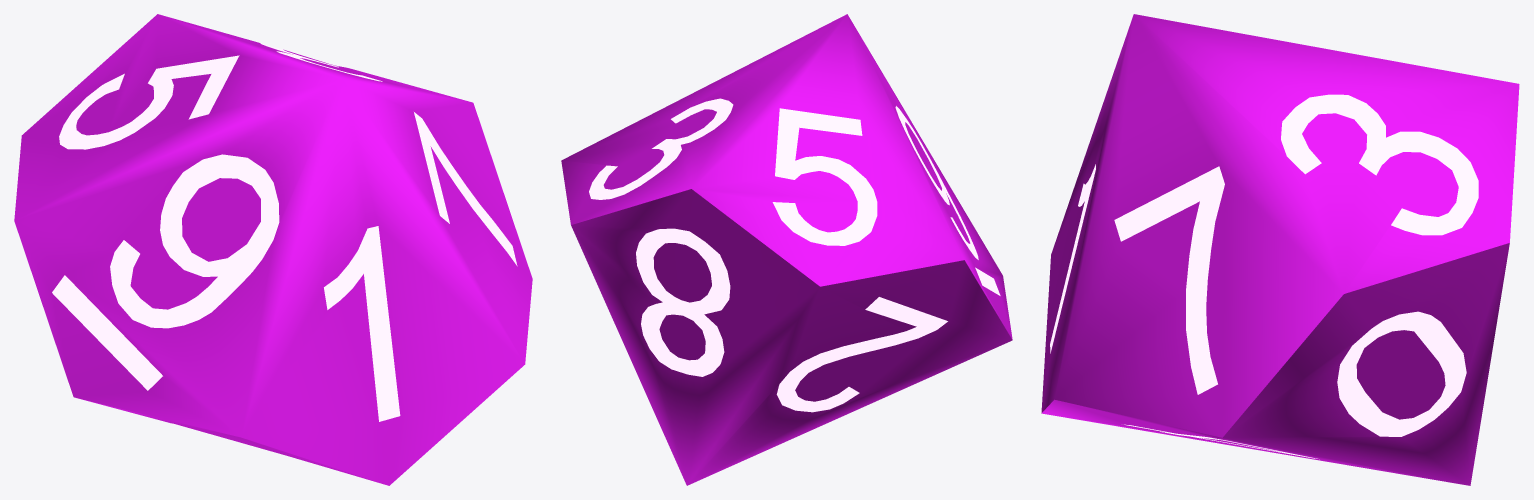
Rendered from dice10.glb.
The picture shows the model from 3 angles, left to right: view 1: azimuth 30°, elevation 25°; view 2: azimuth 150°, elevation 25°; view 3: azimuth 270°, elevation 25°; orthographic projection. The views are drawn at different scales.
Visible parts, largest first — view 1: d10; view 2: d10; view 3: d10.
Part boxes in pixels (left/top/right/bottom): d10: left=14, top=14, right=532, bottom=485; d10: left=561, top=14, right=1012, bottom=485; d10: left=1041, top=14, right=1519, bottom=485.
Bounding box in the file's own units: 0.0366 × 0.0327 × 0.0309.
